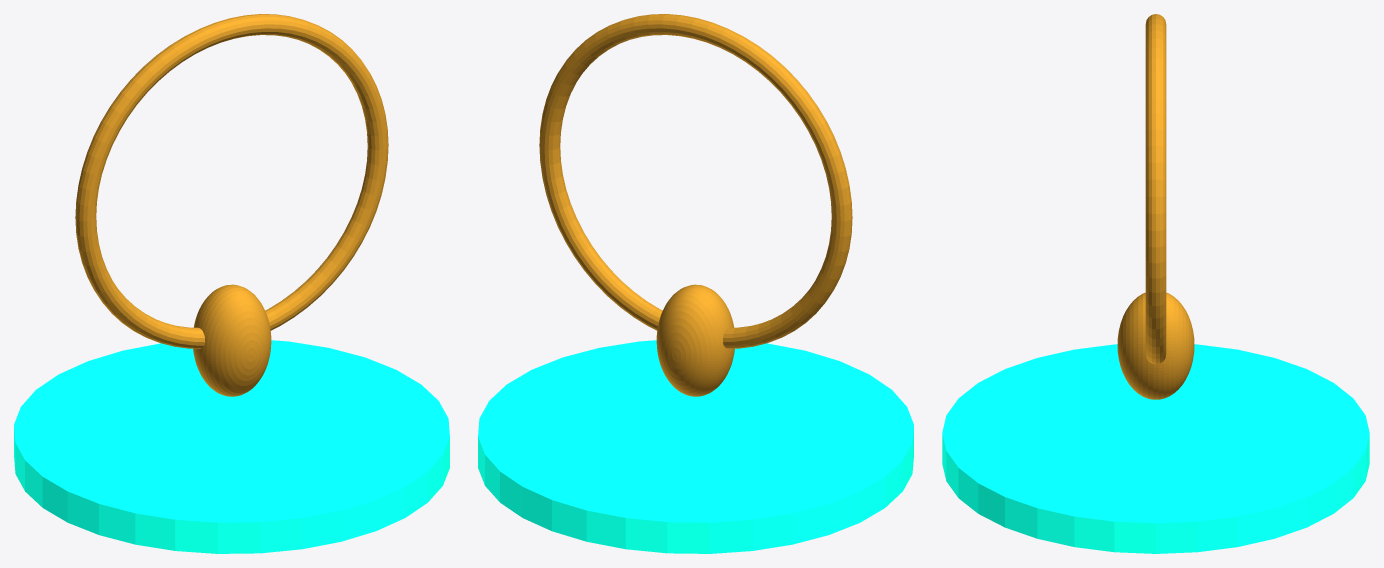
File: fashion_necklace.dae
3 views of the same model, side by side, from view 1: azimuth 30°, elevation 25°; view 2: azimuth 150°, elevation 25°; view 3: azimuth 270°, elevation 25° (orthographic). The views are drawn at different scales.
Parts seen in each view (by area): view 1: 06_13_Popular_Fashion_Necklace_ROOT_base, 06_13_Popular_Fashion_Necklace_part_01, 06_13_Popular_Fashion_Necklace_part_02; view 2: 06_13_Popular_Fashion_Necklace_ROOT_base, 06_13_Popular_Fashion_Necklace_part_01, 06_13_Popular_Fashion_Necklace_part_02; view 3: 06_13_Popular_Fashion_Necklace_ROOT_base, 06_13_Popular_Fashion_Necklace_part_01, 06_13_Popular_Fashion_Necklace_part_02.
Part boxes in pixels (<box>): 06_13_Popular_Fashion_Necklace_ROOT_base: <box>14,340,449,553</box>; 06_13_Popular_Fashion_Necklace_part_01: <box>75,14,388,348</box>; 06_13_Popular_Fashion_Necklace_part_02: <box>193,284,271,396</box>; 06_13_Popular_Fashion_Necklace_ROOT_base: <box>478,340,913,553</box>; 06_13_Popular_Fashion_Necklace_part_01: <box>539,14,852,348</box>; 06_13_Popular_Fashion_Necklace_part_02: <box>656,284,734,396</box>; 06_13_Popular_Fashion_Necklace_ROOT_base: <box>942,344,1369,553</box>; 06_13_Popular_Fashion_Necklace_part_01: <box>1145,14,1166,364</box>; 06_13_Popular_Fashion_Necklace_part_02: <box>1117,292,1194,399</box>.
Size of the model in its own units: 0.76 by 0.85 by 0.76.
